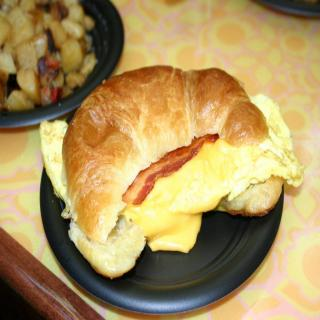Bread: (62, 68, 270, 243)
Croissant: (59, 65, 284, 278)
